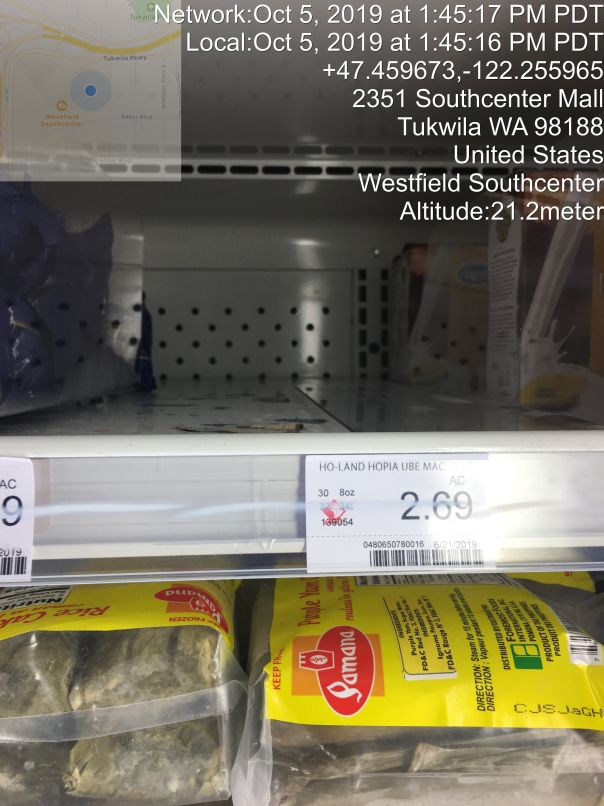Label: (291, 436, 520, 592)
Location: (347, 77, 604, 198)
Time: (145, 1, 598, 67)
Void: (20, 182, 552, 432)
